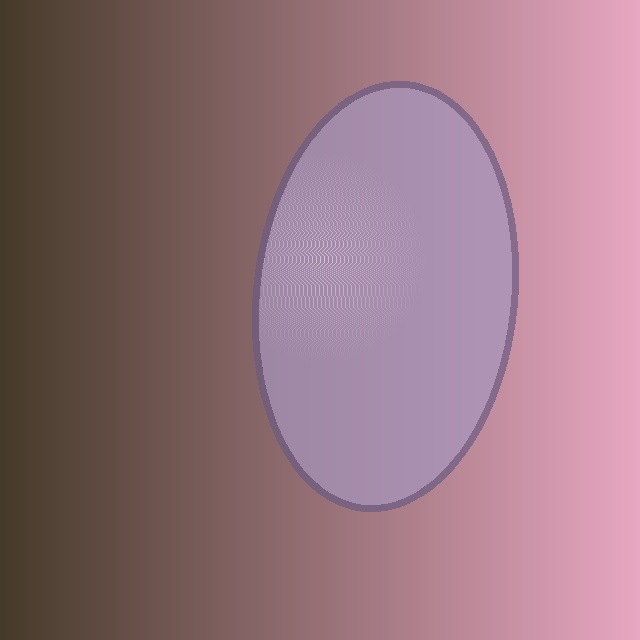lens: (255, 84, 515, 508)
